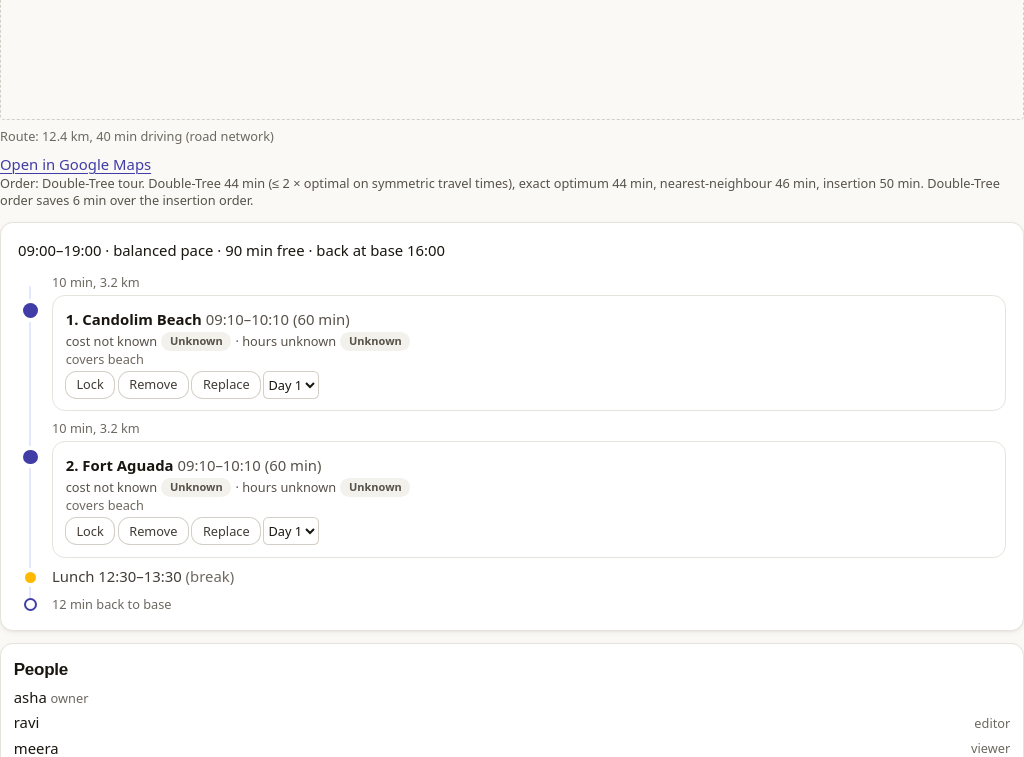
Test case: a stale edit shows the conflict and loads the latest version
This screenshot has width=1024, height=757.
(page scrolled)
Click the button with aria-label "Remove Candolim Beach".
click(153, 385)  # box [119,372,188,398]
(page scrolled)
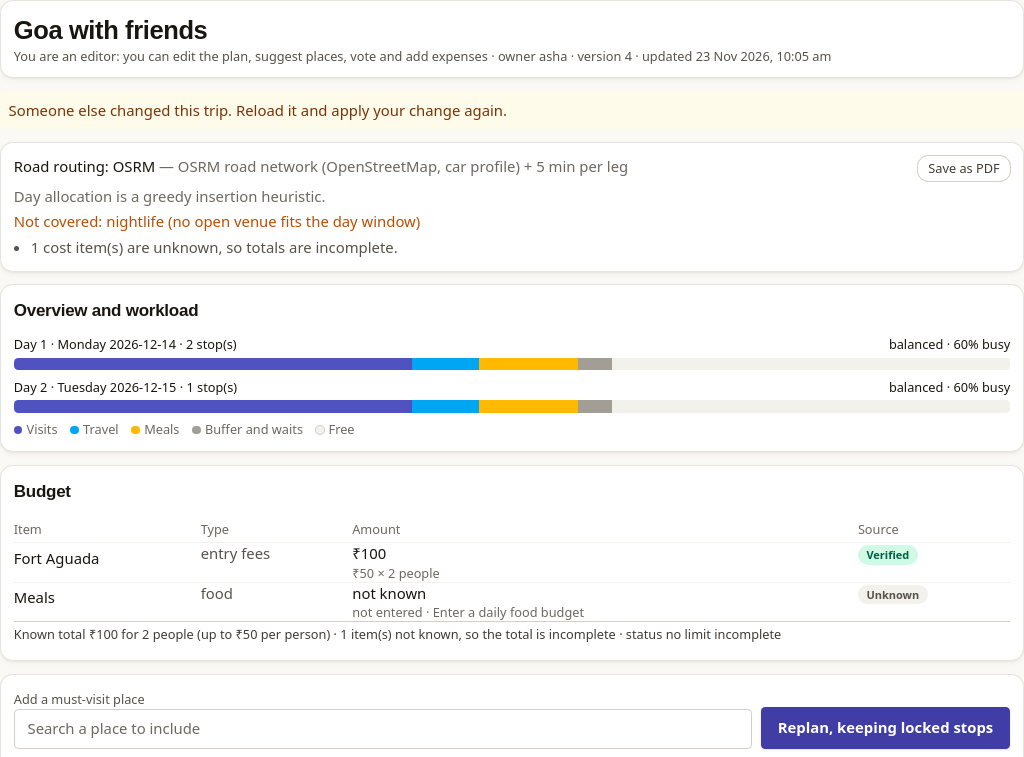
Result: the message shows "Someone else changed this trip" at [8,100,507,120]
Result: the text "version 4" is shown at [14,47,831,65]
